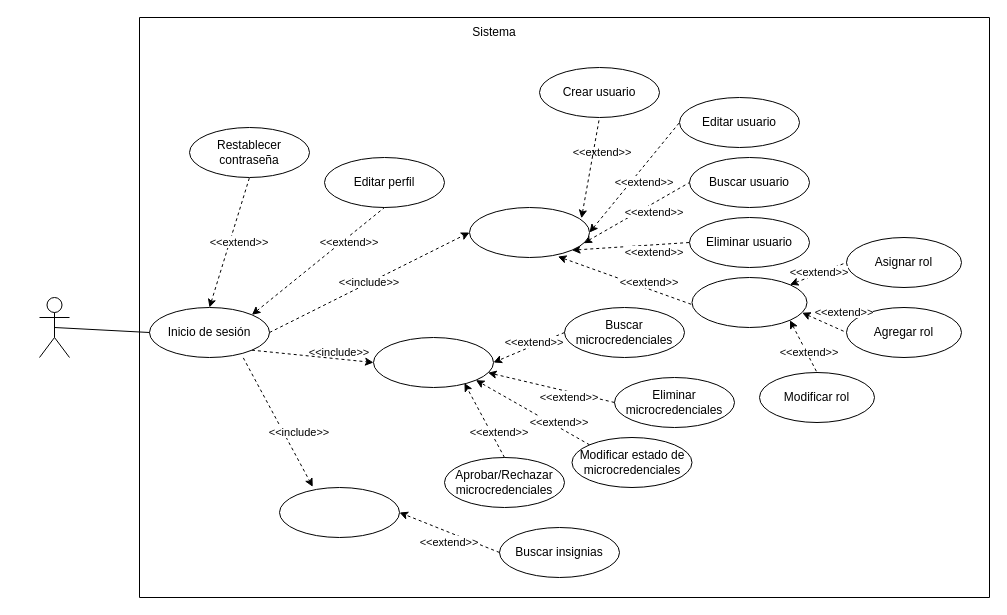
Image size: 1007x615. Some labels were removed from this diagram. The centre of each missing label's shape, as x and y in pixels:
Administración de roles y permisos: (749,302)
Administrador: (54,327)
Gestión de microcredenciales: (433,362)
Gestión de usuarios: (529,232)
Visualizar insignias emitidas: (339,512)
